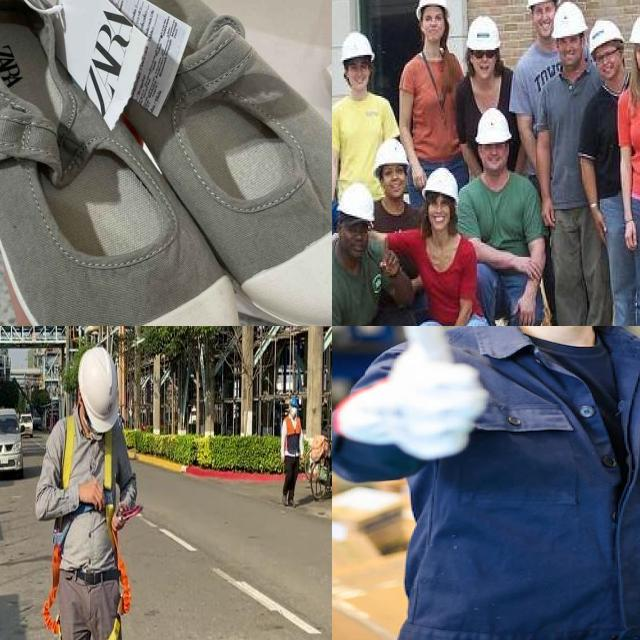Harness: (105, 503, 133, 640), (43, 544, 63, 640)
Sandals: (0, 0, 332, 326)
face_nomask: (553, 33, 584, 64), (344, 222, 372, 254), (481, 140, 508, 168), (426, 199, 453, 226), (532, 3, 556, 33), (382, 167, 406, 196), (594, 49, 619, 76), (420, 12, 444, 38), (471, 47, 495, 72), (346, 61, 370, 85), (632, 41, 640, 73)
glasses: (592, 48, 618, 65), (472, 46, 496, 60)
hand_glove: (333, 326, 487, 460)
hand_noglove: (588, 207, 614, 245), (513, 295, 539, 326), (377, 248, 401, 279), (518, 255, 545, 281), (538, 199, 560, 228), (621, 219, 640, 252)
head_helmet: (337, 183, 378, 223), (420, 166, 463, 204), (549, 0, 589, 40), (465, 14, 504, 52), (474, 108, 512, 147), (586, 18, 627, 54), (371, 135, 409, 170), (338, 30, 375, 62), (414, 0, 449, 19), (628, 9, 640, 48), (525, 0, 562, 8)
person: (537, 0, 626, 326), (572, 14, 640, 326), (455, 113, 548, 326), (398, 0, 477, 195), (404, 164, 497, 326), (332, 31, 404, 202), (332, 192, 413, 326), (618, 8, 640, 326)
